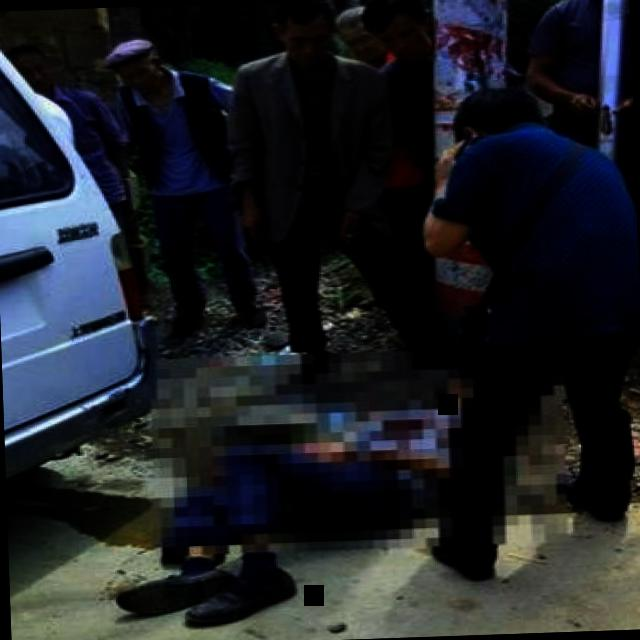Fall-Detected: (102, 310, 504, 630)
